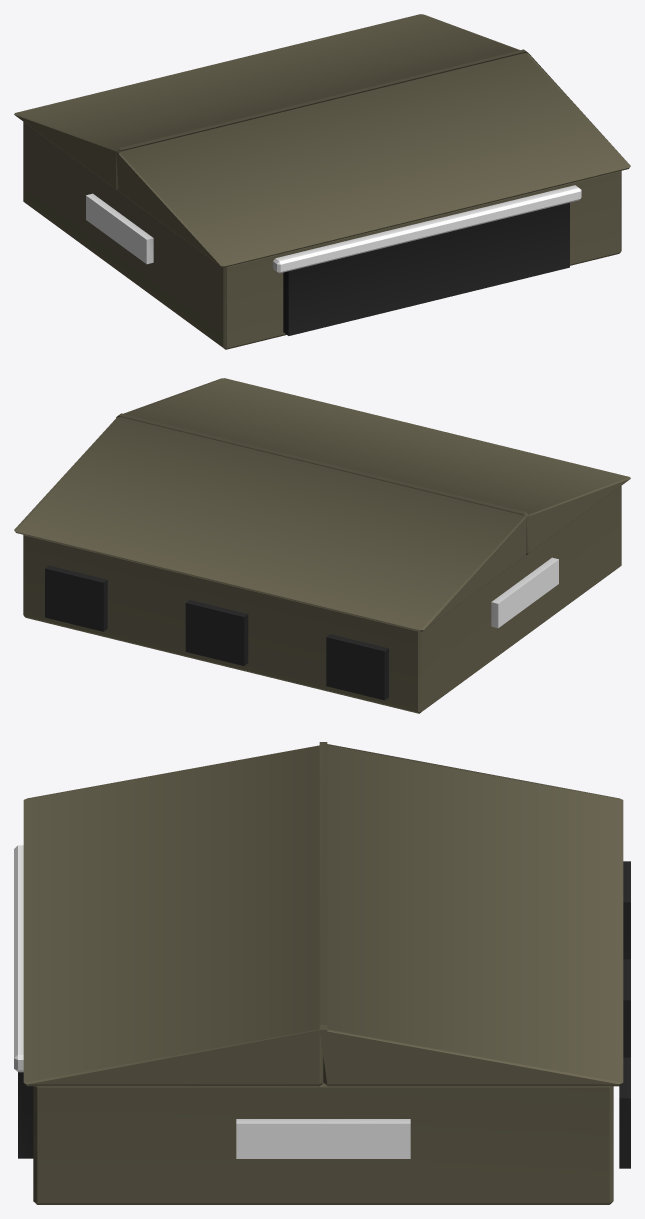
File: ru-vehicle-factory.glb
3 renders of one model, top to bottom at view 1: azimuth 30°, elevation 25°; view 2: azimuth 150°, elevation 25°; view 3: azimuth 270°, elevation 25°, orthographic. The views are drawn at different scales.
Visible parts, largest first — view 1: ru-vehicle-factory; view 2: ru-vehicle-factory; view 3: ru-vehicle-factory.
Boxes of the visible parts, <box> form: ru-vehicle-factory: <box>14,14,630,349</box>; ru-vehicle-factory: <box>14,378,630,713</box>; ru-vehicle-factory: <box>14,742,630,1204</box>.
Bounding box in the file's own units: 3.52 × 1.05 × 3.19.
